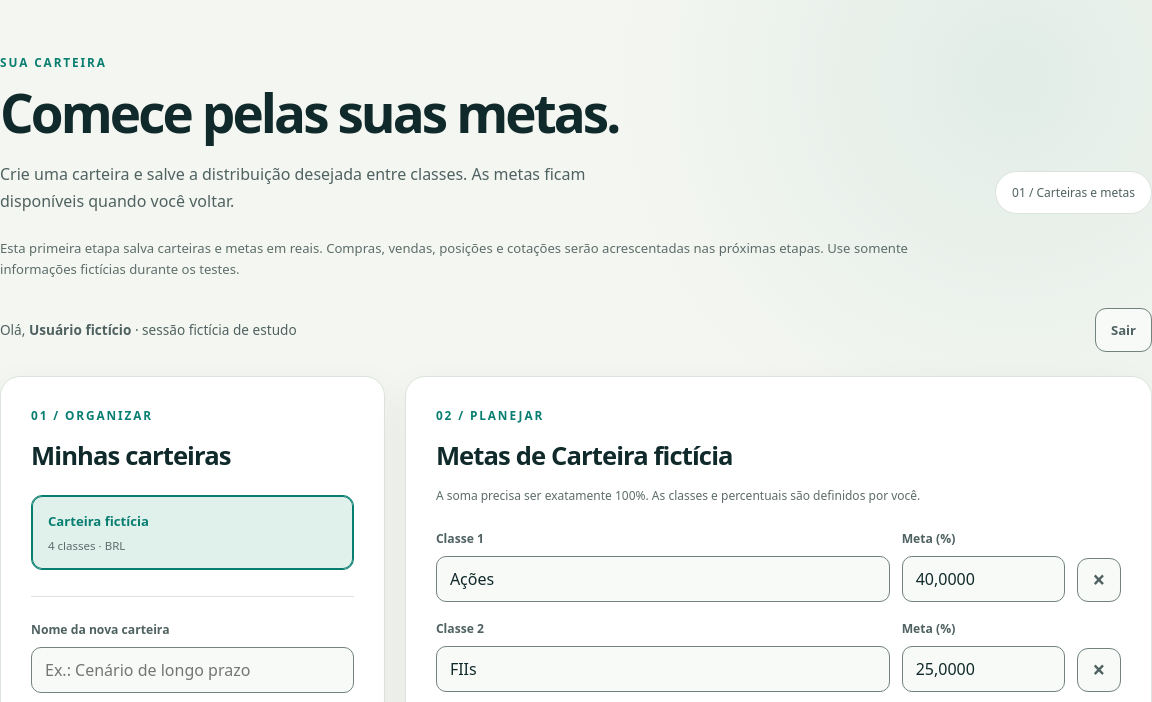
Scenario: SavedPortfolio › preserves the draft after a conflict and reloads only on an explicit action
Replace the text in the field named "Meta da classe 1" with "39": (983, 578) [902,556,1065,602]
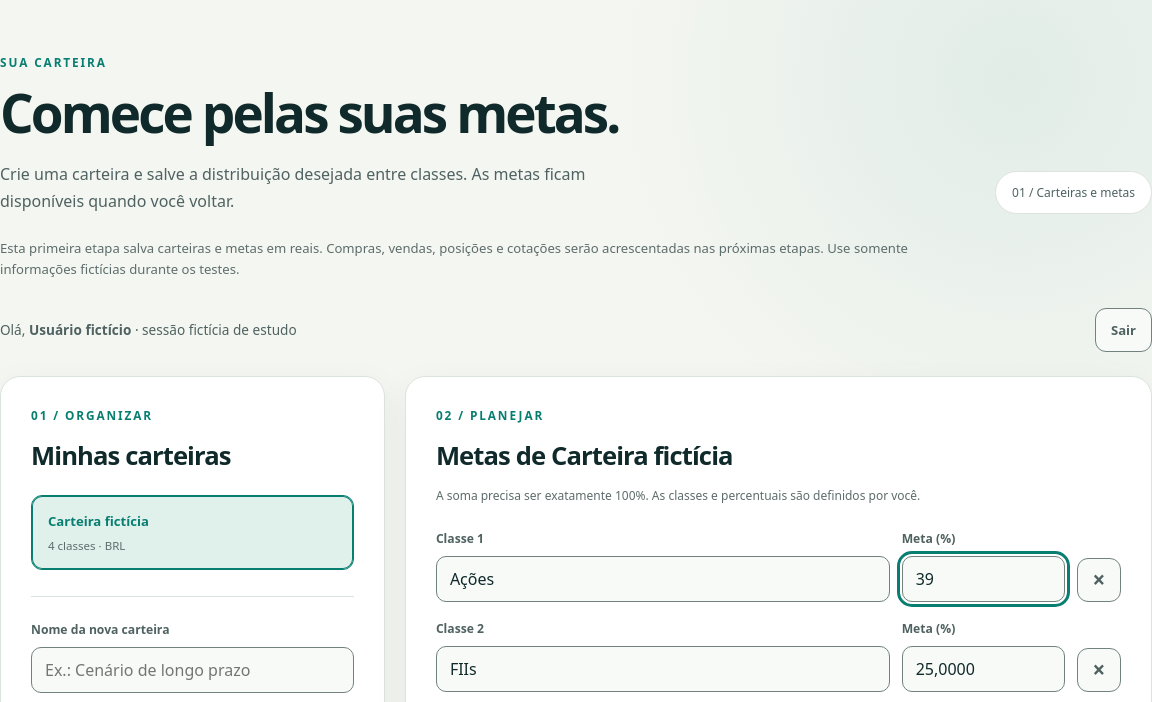
Replace the text in the field named "Meta da classe 2" with "26": (983, 668) [902,646,1065,692]
(page scrolled)
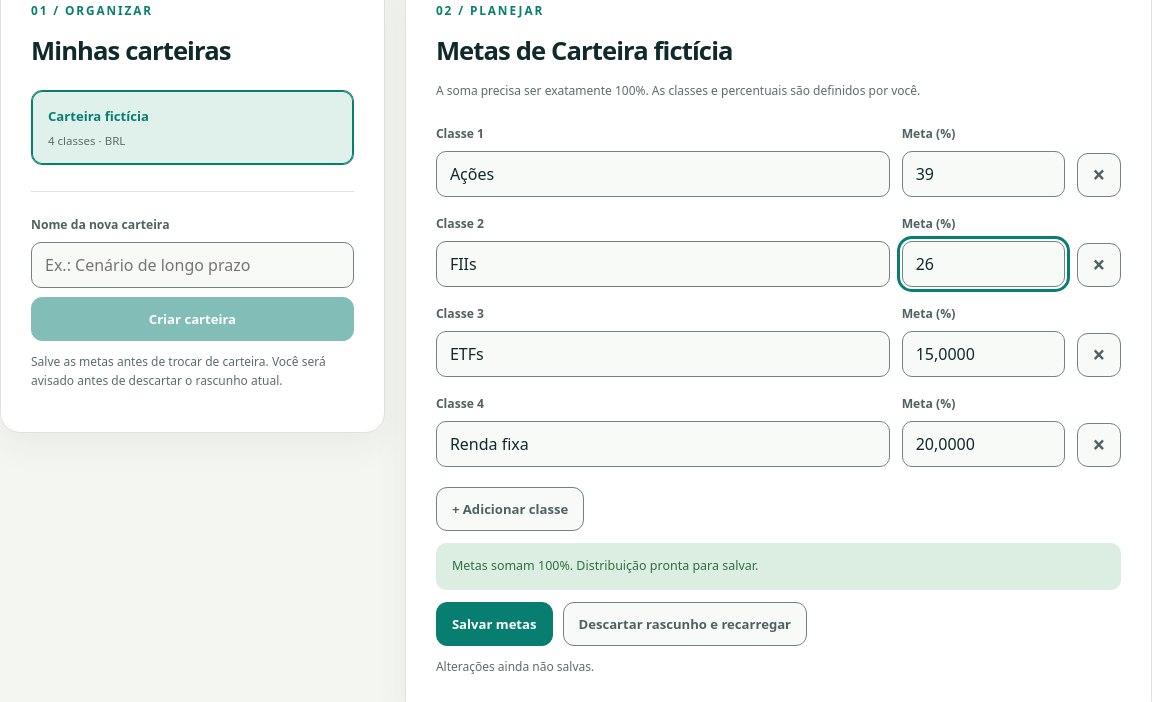
Click the button "Salvar metas": (494, 624) [436,602,552,646]
(page scrolled)
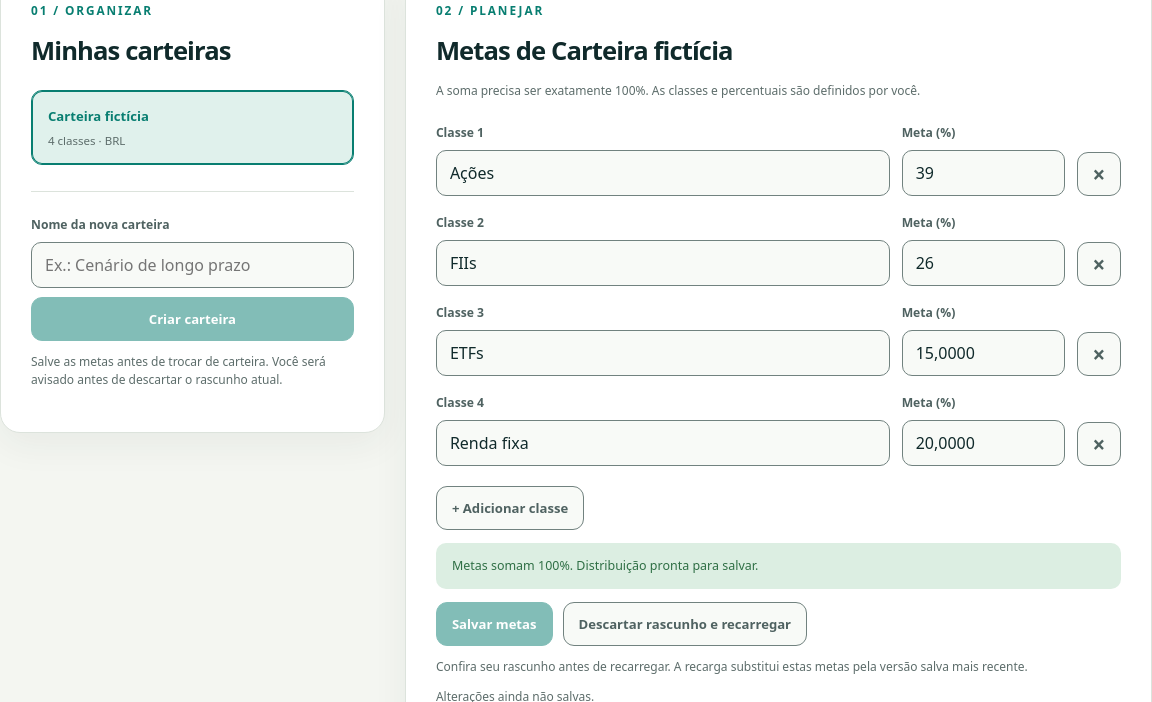
Now the button "Salvar metas" is disabled, box [436,602,552,646]
Click the button "Descartar rascunho e recarregar": (685, 624) [562,602,807,646]
(page scrolled)
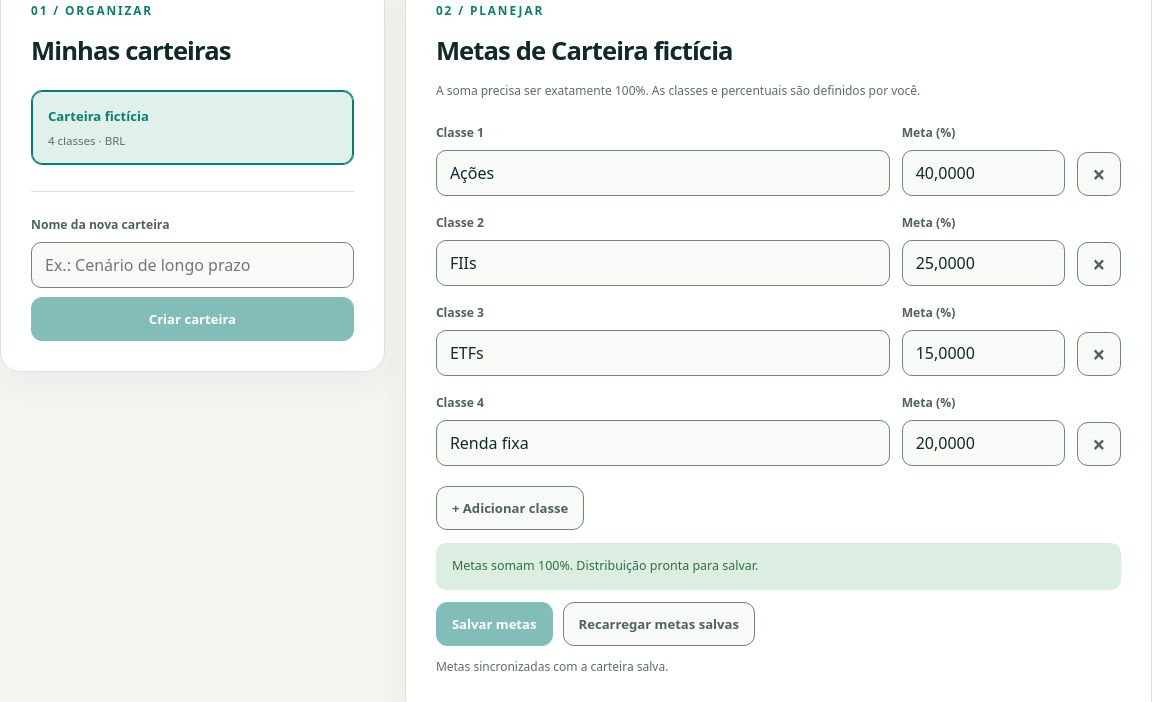
Now the field named "Meta da classe 1" holds "40,0000", box [902,150,1065,196]
